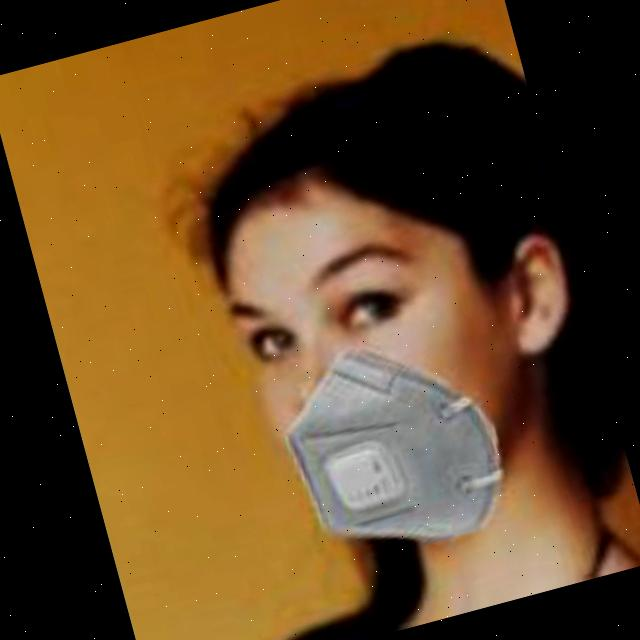suspicion: (115, 82, 566, 588)
